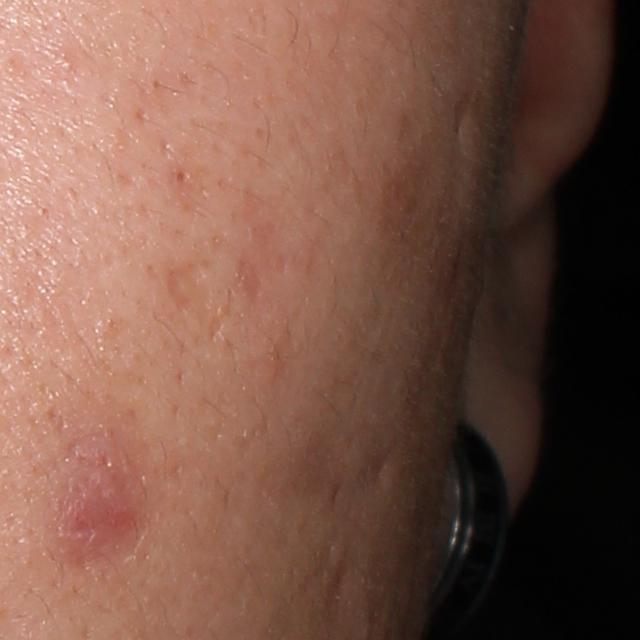atrophic_scar: (442, 76, 482, 226), (311, 541, 362, 640), (160, 258, 214, 312), (352, 445, 400, 502), (234, 257, 268, 306)
comedo: (169, 164, 192, 188)
papule: (67, 471, 139, 557)
